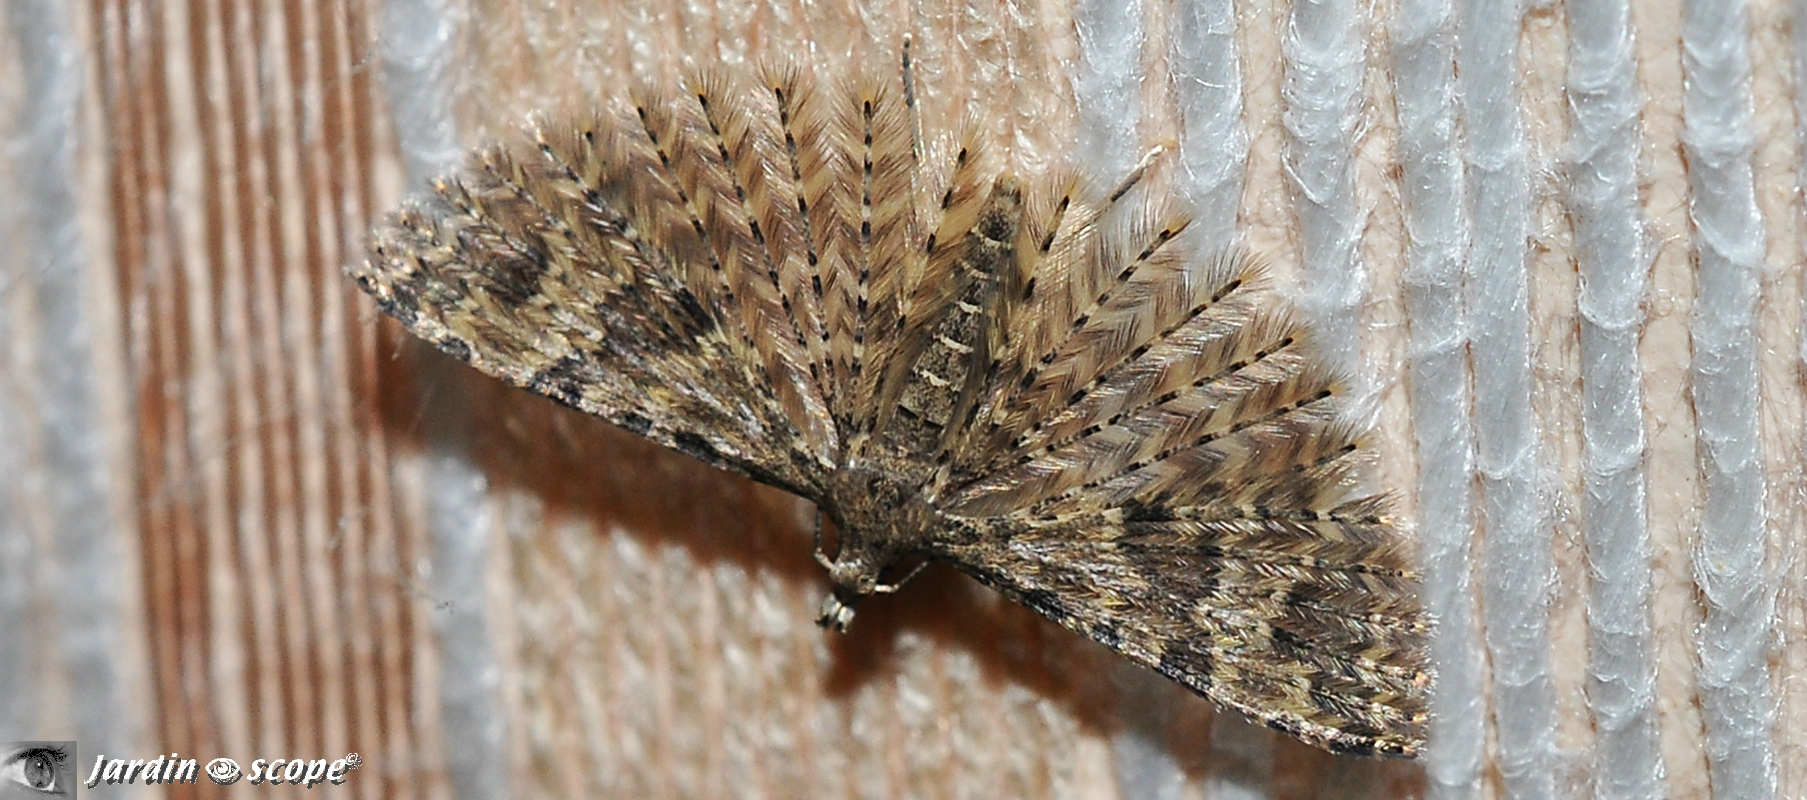Alucitidae: (334, 51, 1469, 755)
moth: (332, 50, 1467, 753)
